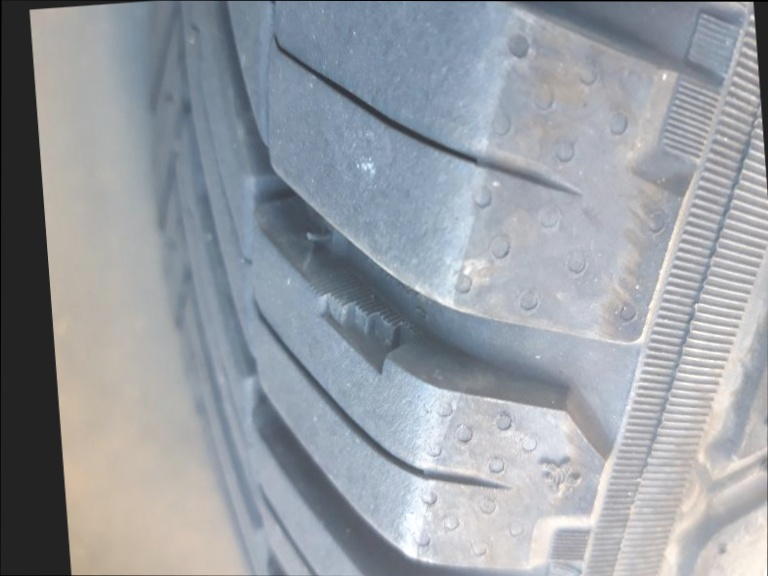temoin:90: (299, 259, 436, 389)
